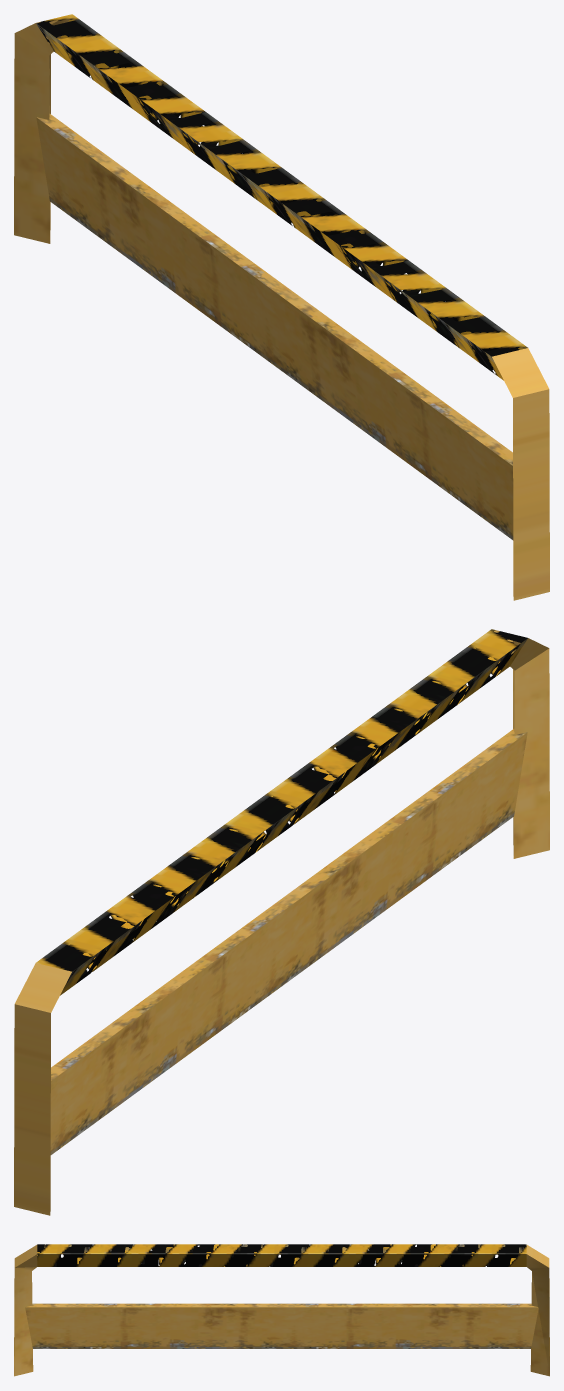
The model's file is BnL_Tune_Up_Fence.fbx.
3 renders of one model, top to bottom at view 1: azimuth 30°, elevation 25°; view 2: azimuth 150°, elevation 25°; view 3: azimuth 270°, elevation 25°, orthographic. The views are drawn at different scales.
Parts seen in each view (by area): view 1: BnL_Tune_Up_Fence; view 2: BnL_Tune_Up_Fence; view 3: BnL_Tune_Up_Fence.
Part boxes in pixels (bbox=[...]): BnL_Tune_Up_Fence: bbox=[14, 14, 549, 600]; BnL_Tune_Up_Fence: bbox=[14, 629, 549, 1215]; BnL_Tune_Up_Fence: bbox=[14, 1244, 549, 1376].
Size of the model in its own units: 0.378 by 2.26 by 8.95.
Materials: 1 (1 with a texture image).
